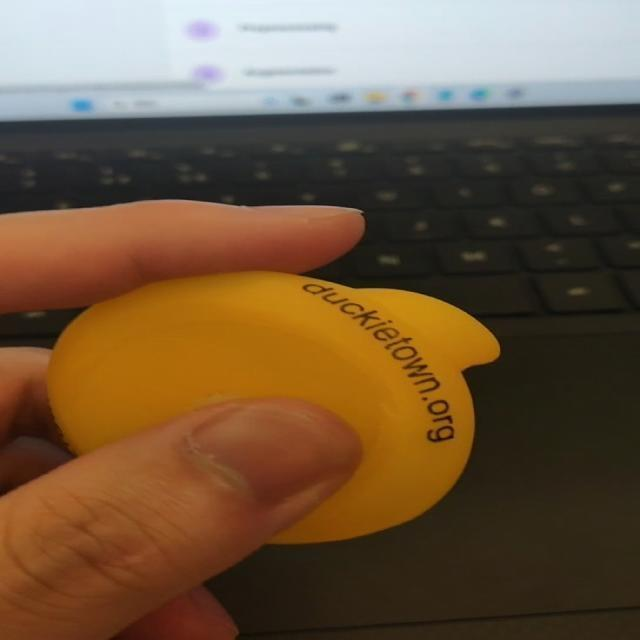rubber-duck: (48, 271, 498, 541)
